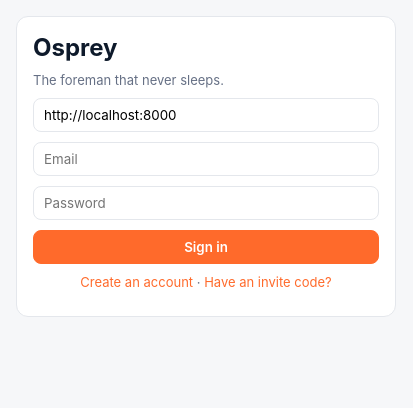
Login — invite codes › shows why an invite was refused
Expected: the button "Sign in" is shown, [33,230,379,264]
Click the link "Have an invite code?" at (268,282), box [204,274,332,290]
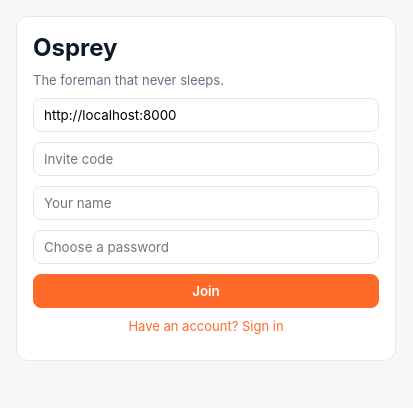
Type "stale" into the field with placeholder "Invite code" at (206,159), box [33,142,379,176]
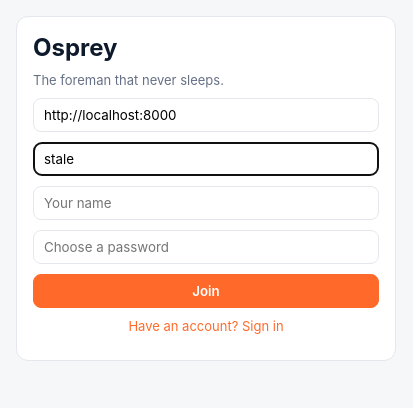
Click the button "Join" at (206,291), box [33,274,379,308]
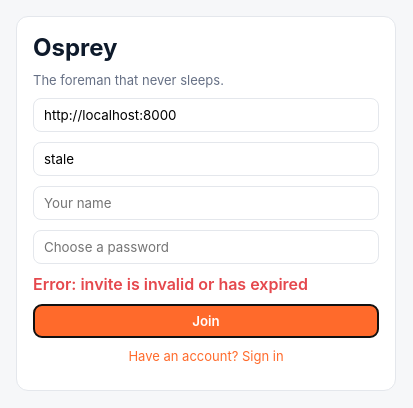
Now the text "Error: invite is invalid or has expired" is shown, box [33,274,308,294]
